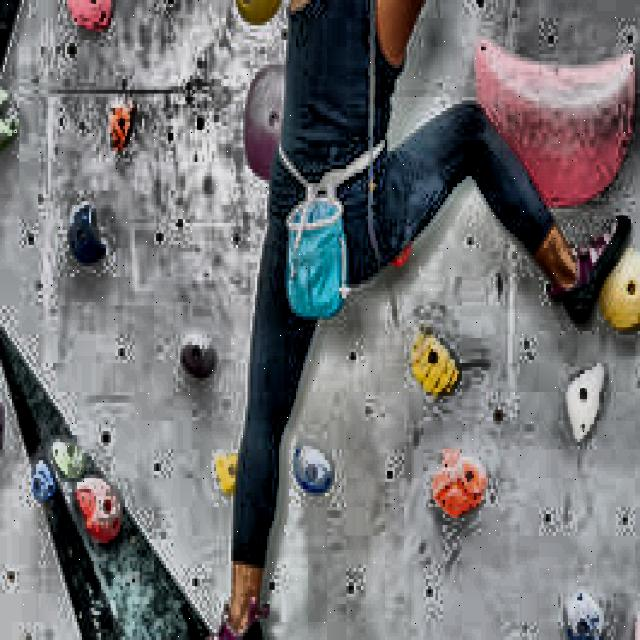Hold: (245, 65, 286, 180), (433, 449, 486, 518), (599, 248, 640, 331), (411, 331, 460, 396), (75, 478, 123, 543), (70, 205, 106, 262), (563, 590, 604, 640), (294, 442, 334, 493), (183, 331, 217, 378), (53, 439, 87, 482), (68, 0, 113, 32), (0, 86, 19, 153), (111, 101, 135, 151), (31, 460, 58, 503), (236, 0, 282, 22)
Macro: (476, 43, 638, 205)
Unknown: (565, 367, 604, 442), (214, 453, 238, 496)
Volume: (0, 329, 214, 640)
